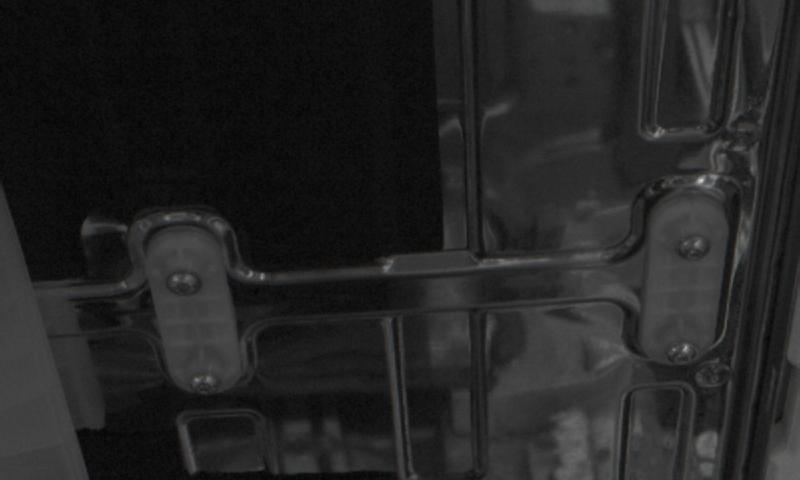vida-ok: (667, 221, 717, 270), (178, 358, 223, 398), (664, 337, 709, 377), (165, 266, 206, 307)
